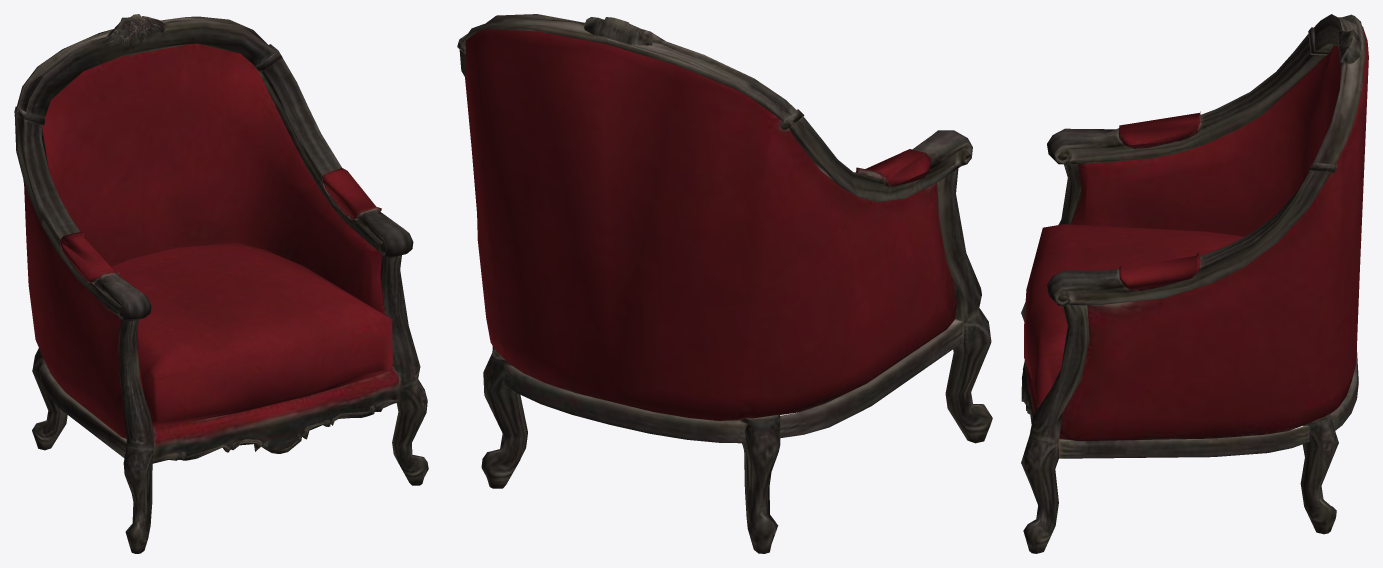
File: cinema_seat.glb
3 views of the same model, side by side, from view 1: azimuth 30°, elevation 25°; view 2: azimuth 150°, elevation 25°; view 3: azimuth 270°, elevation 25° (orthographic). The views are drawn at different scales.
Visible parts, largest first — view 1: ArmChair_01; view 2: ArmChair_01; view 3: ArmChair_01.
Boxes of the visible parts, x1=… form: ArmChair_01: x1=14, y1=14, x2=428, y2=553; ArmChair_01: x1=457, y1=14, x2=992, y2=553; ArmChair_01: x1=1021, y1=14, x2=1368, y2=553.
Bounding box in the file's own units: 0.8483 × 1.06 × 0.7619.
Materials: 1 (1 with a texture image).
